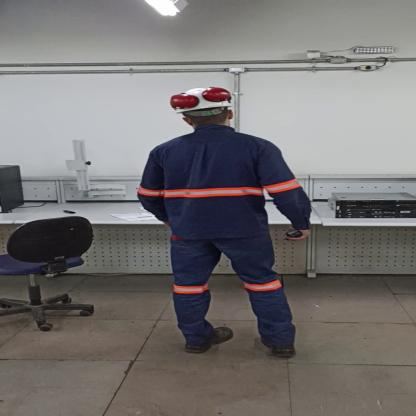Capacete: (166, 84, 237, 109)
